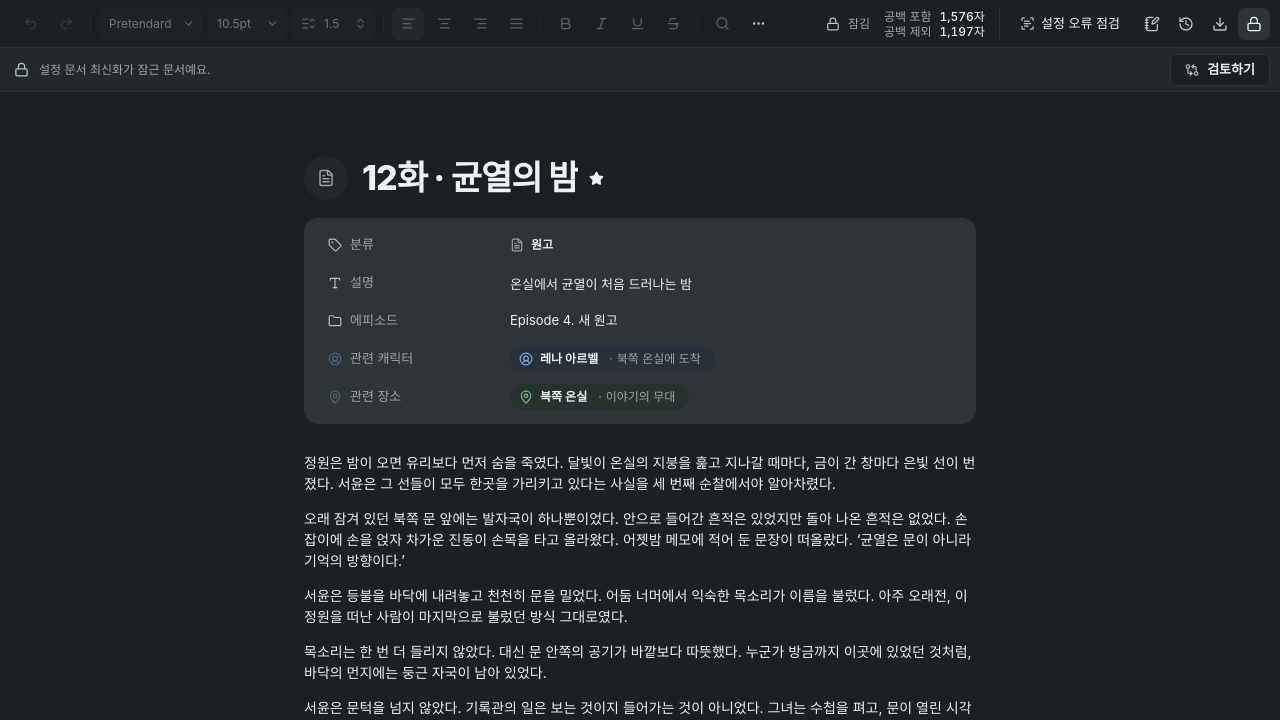
DocumentView graph refresh lock › points to the review while the refresh result waits for it
Click the button named "설정 문서 최신화로 잠김". click: (1254, 24)
box: left=1238, top=8, right=1270, bottom=40
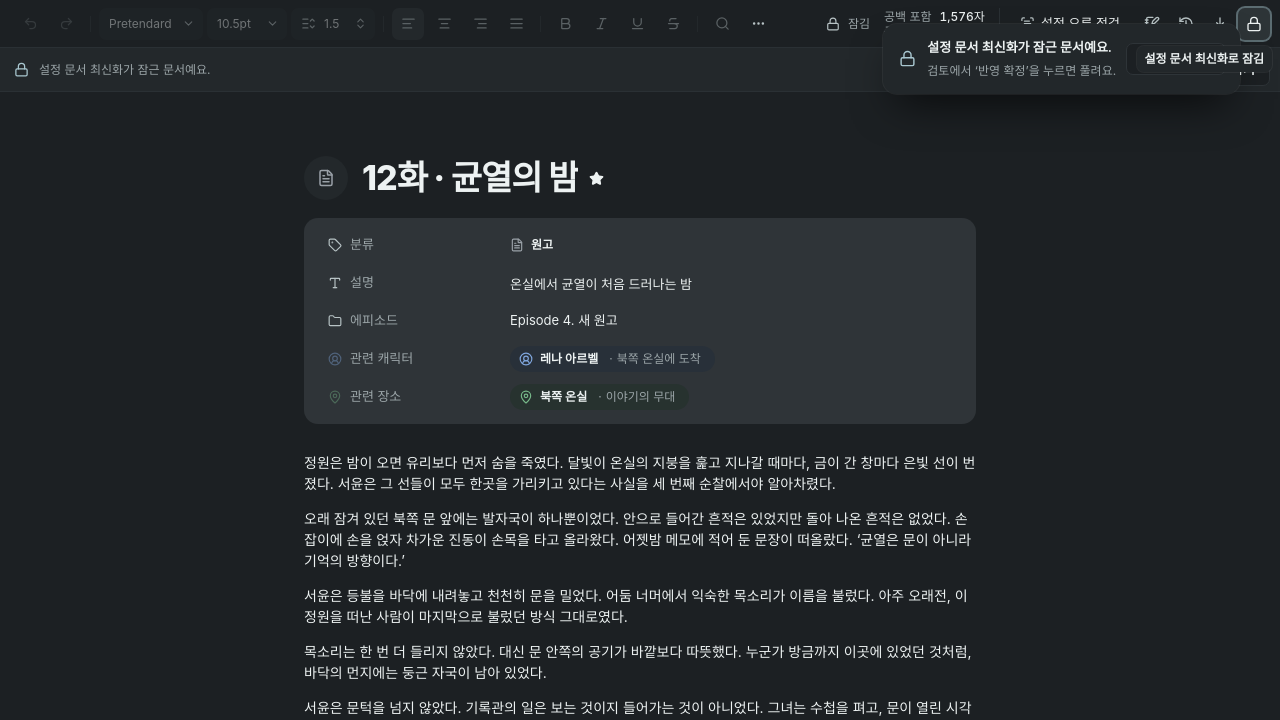
expect the text "검토에서 ‘반영 확정’을 누르면 풀려요." is shown: met, box left=927, top=62, right=1116, bottom=80
